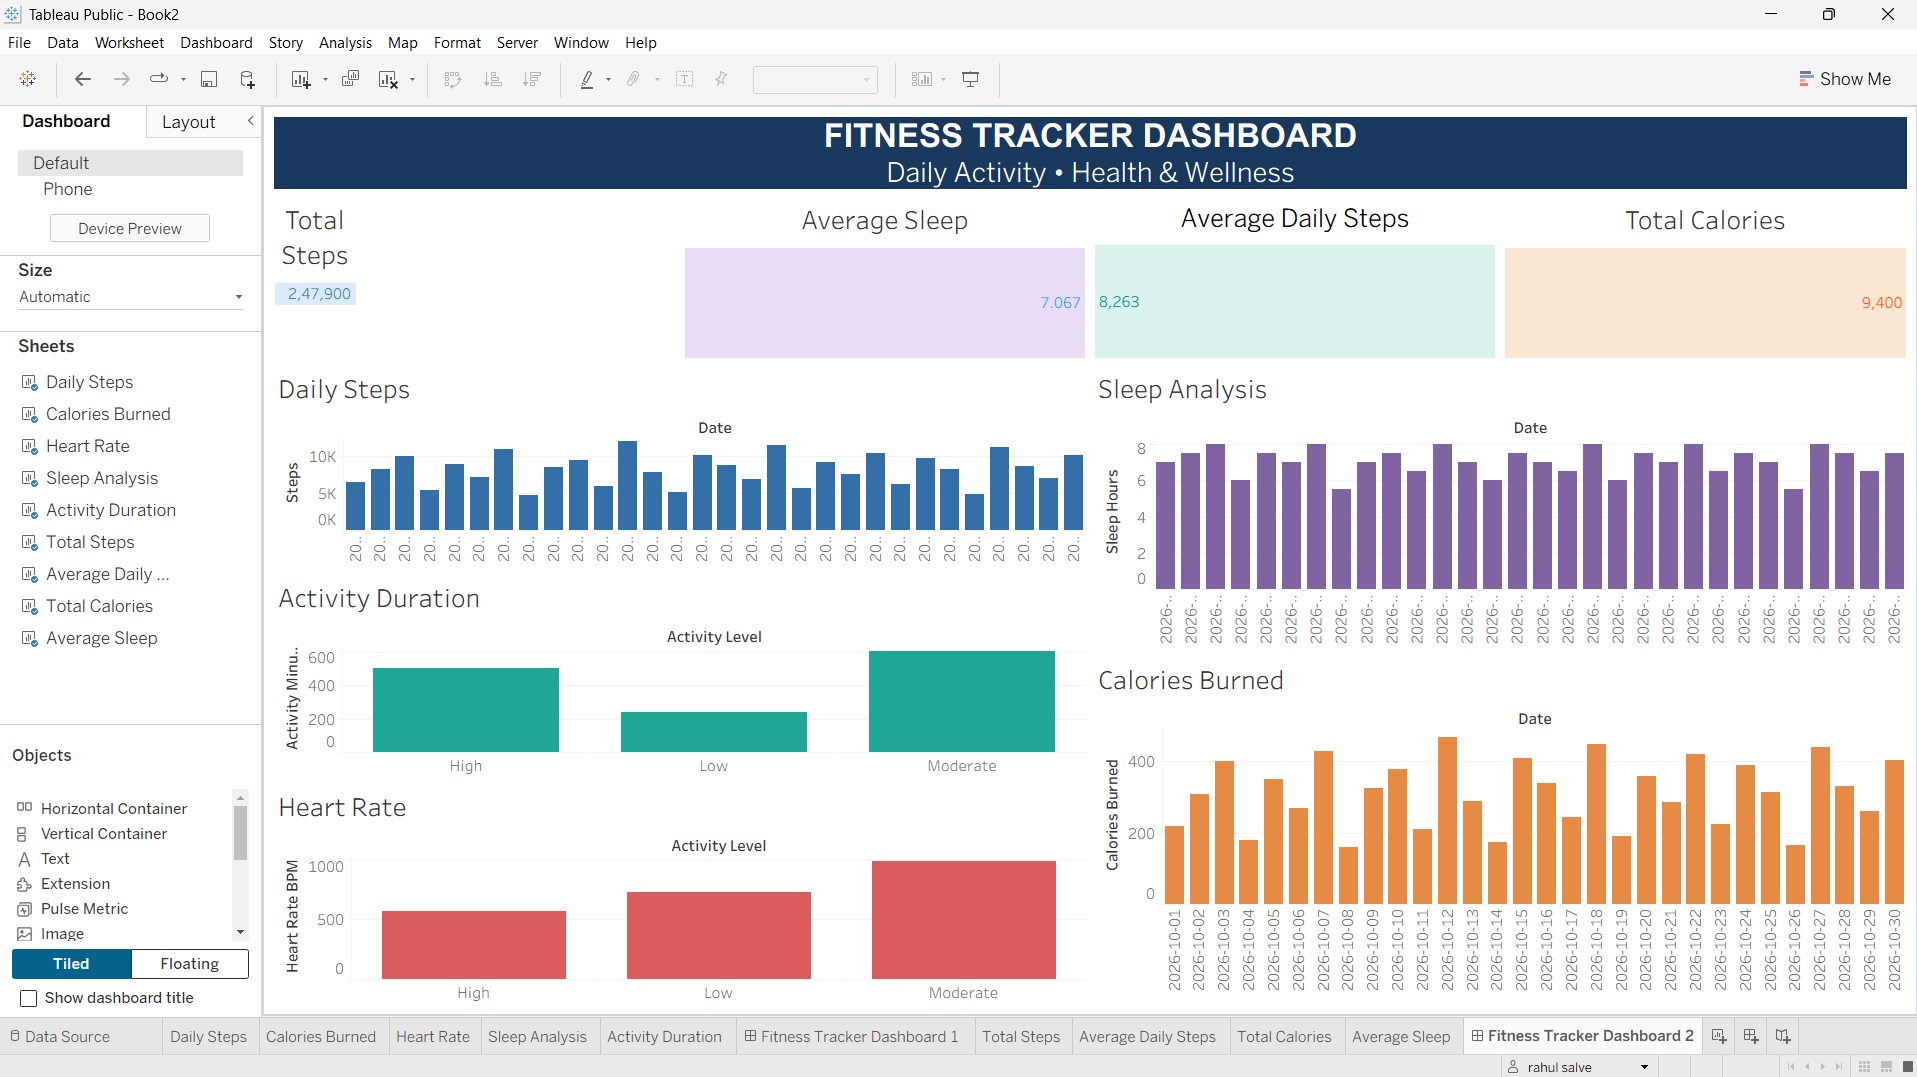

What the dashboard file says about the page in this screenshot:
{"tool":"tableau","page":{"name":"Fitness Tracker Dashboard 2","canvas":[1000,1000],"units":"permille","ordinal":1},"visuals":[{"type":"text","box":[4.8,8.8,990.3,87.8]},{"type":"worksheet","title":"Total Steps","mark":"Automatic","box":[4.8,96.6,247.2,186.9]},{"type":"worksheet","title":"Average Sleep","mark":"Automatic","box":[252.1,96.6,247.7,186.9]},{"type":"worksheet","title":"Average Daily Steps","mark":"Automatic","box":[499.8,96.6,247.6,186.9]},{"type":"worksheet","title":"Total Calories","mark":"Automatic","box":[747.4,96.6,247.8,186.9]},{"type":"worksheet","title":"Daily Steps","mark":"Automatic","rows":["Steps"],"cols":["Date"],"box":[4.8,283.5,495.2,229.5]},{"type":"worksheet","title":"Sleep Analysis","mark":"Automatic","rows":["Sleep_Hours"],"cols":["Date"],"box":[500,283.5,495.2,318.7]},{"type":"worksheet","title":"Activity Duration","mark":"Automatic","rows":["Activity_Minutes"],"cols":["Activity_Level"],"box":[4.8,513,495.2,229.5]},{"type":"worksheet","title":"Calories Burned","mark":"Automatic","rows":["Calories_Burned"],"cols":["Date"],"box":[500,602.2,495.2,389]},{"type":"worksheet","title":"Heart Rate","mark":"Automatic","rows":["Heart_Rate_BPM"],"cols":["Activity_Level"],"box":[4.8,742.4,495.2,248.8]}]}

Visuals, with their boxes on the dashboard's canvas, which has no fixed pixel size, in thousandths of its width and height (x1, y1, x2, y2). These are canvas units, not pixel positions in the 1917x1077 screenshot, which may show the page scaled, cropped or inside an application window:
text: [5, 9, 995, 97]
"Total Steps" worksheet: [5, 97, 252, 284]
"Average Sleep" worksheet: [252, 97, 500, 284]
"Average Daily Steps" worksheet: [500, 97, 747, 284]
"Total Calories" worksheet: [747, 97, 995, 284]
"Daily Steps" worksheet: [5, 284, 500, 513]
"Sleep Analysis" worksheet: [500, 284, 995, 602]
"Activity Duration" worksheet: [5, 513, 500, 742]
"Calories Burned" worksheet: [500, 602, 995, 991]
"Heart Rate" worksheet: [5, 742, 500, 991]
